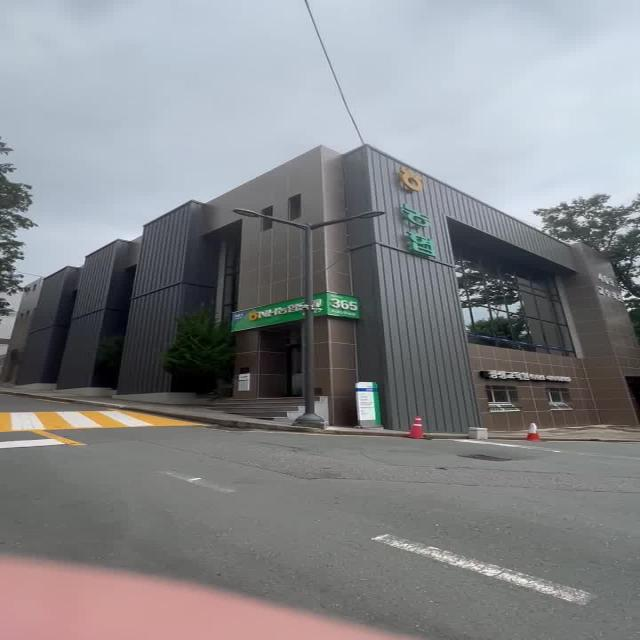building: (26, 164, 618, 403)
